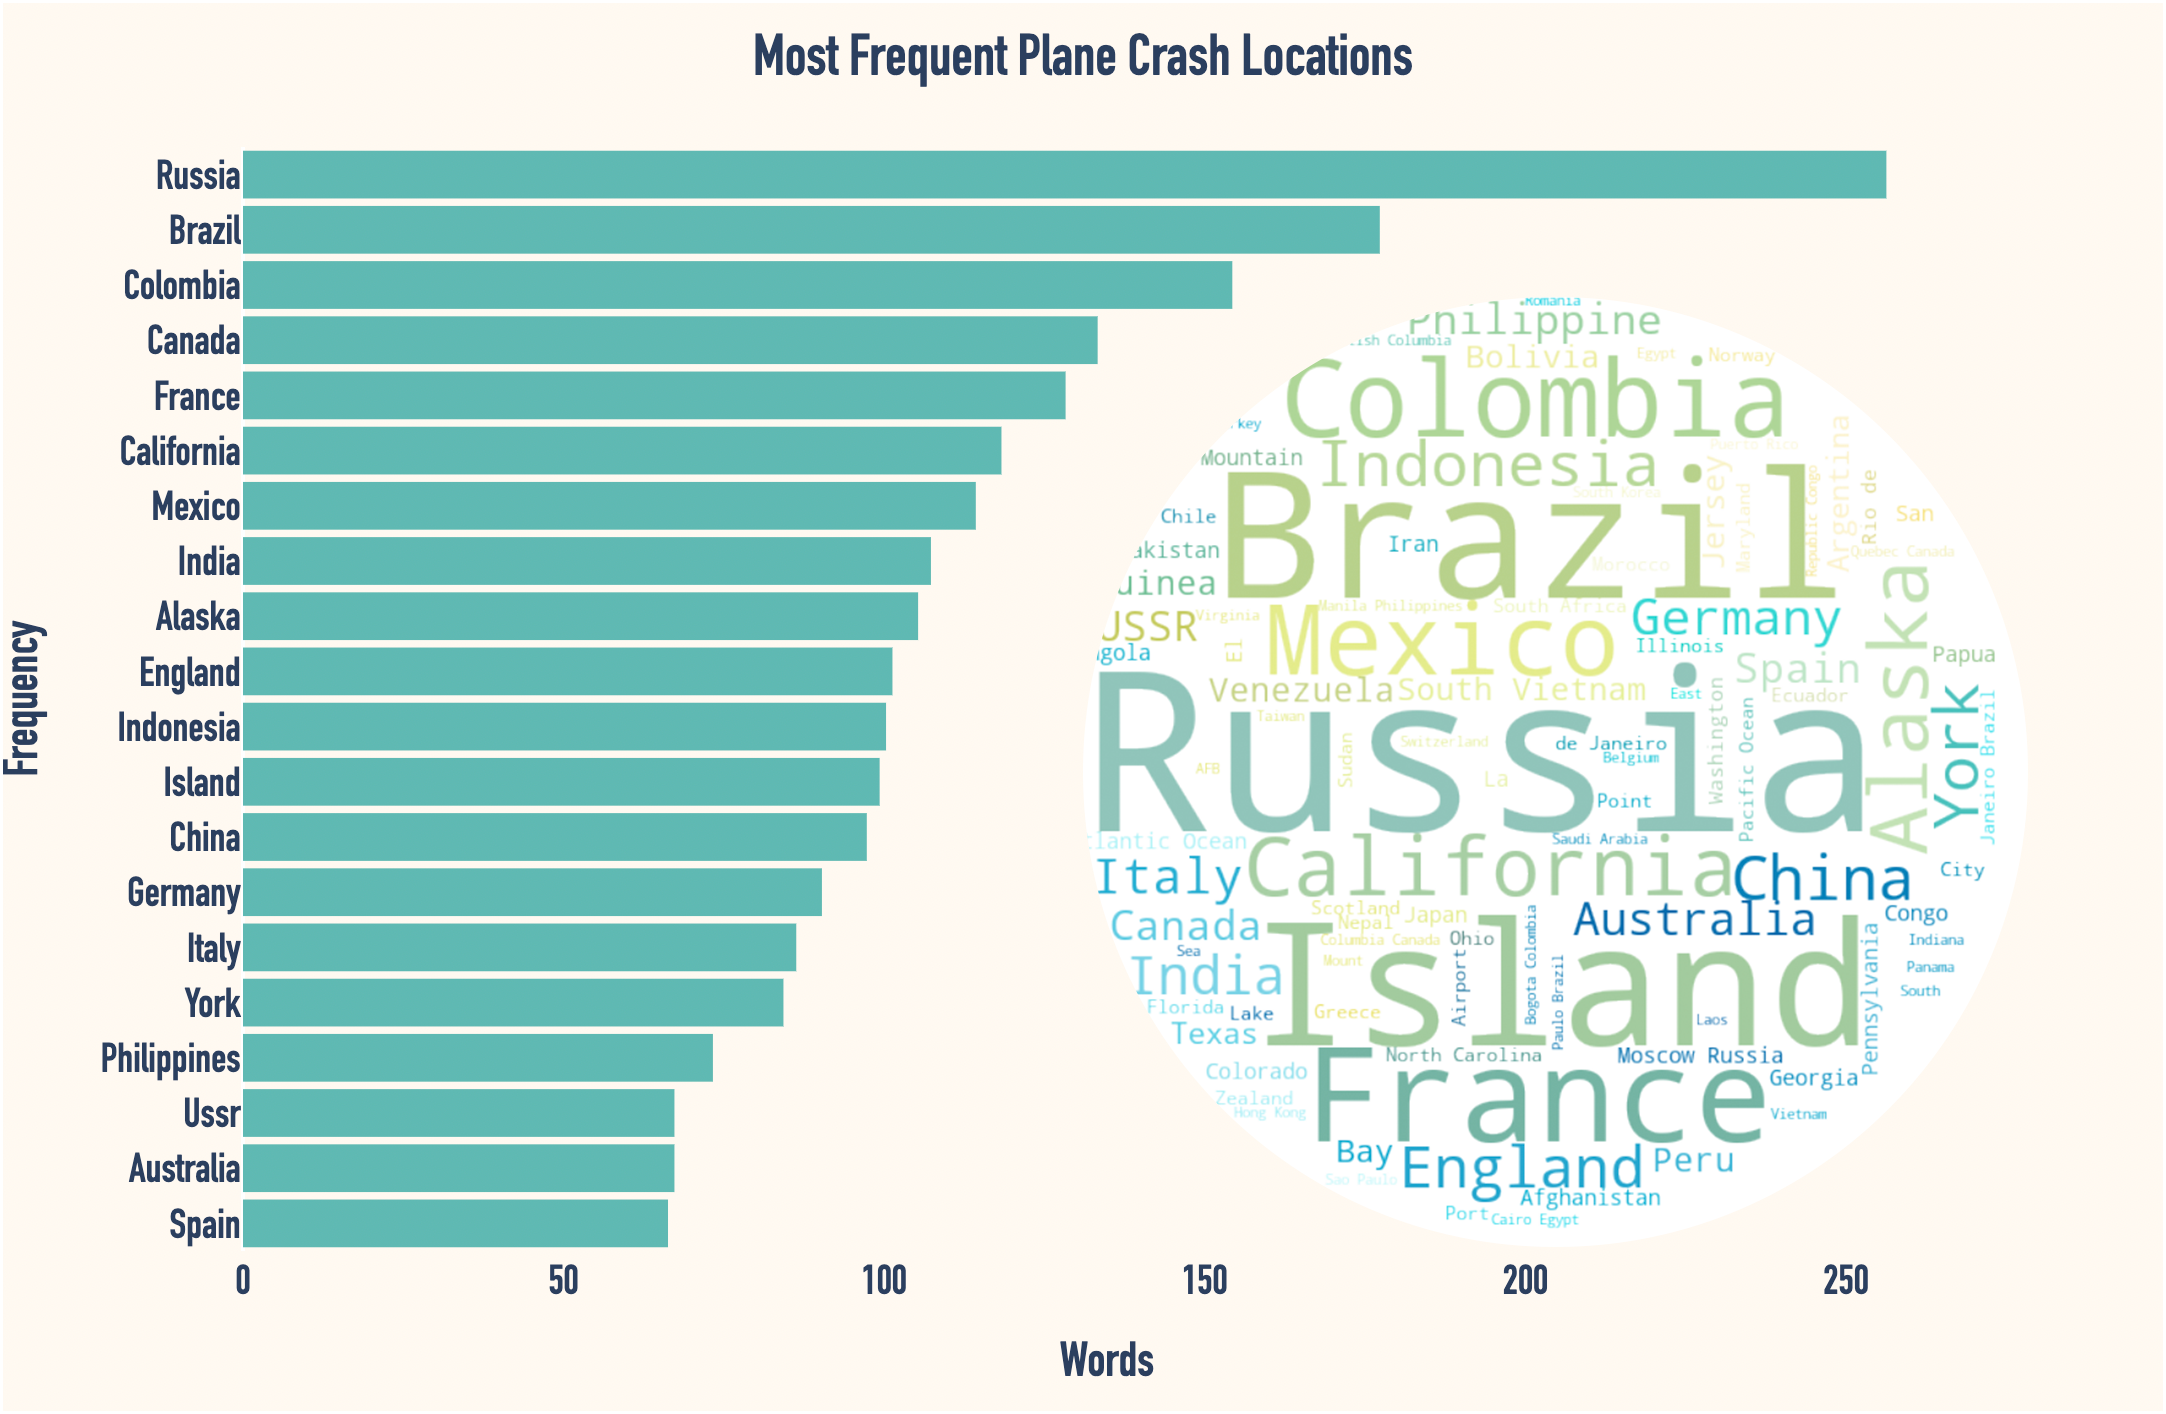

This screenshot's page, from the dashboard's own definition file:
{"tool":"tableau","page":{"name":"Dashborad Crash Trend","canvas":[1200,800],"ordinal":1},"visuals":[{"type":"worksheet","title":"Airplane Crash","mark":"Bar","rows":["Extract (Extract.Extract)_A0811B465A894F85A476DF5B5D53C182"],"cols":["Date"],"box":[12,13,1173,661]}]}

Visuals, with their boxes in screenshot pixels (x1, y1, x2, y2), scaled from the page's 1200x800 canvas onto the 2166x1414 screenshot:
"Airplane Crash" worksheet (Bar marks): bbox=(22, 23, 2139, 1191)
